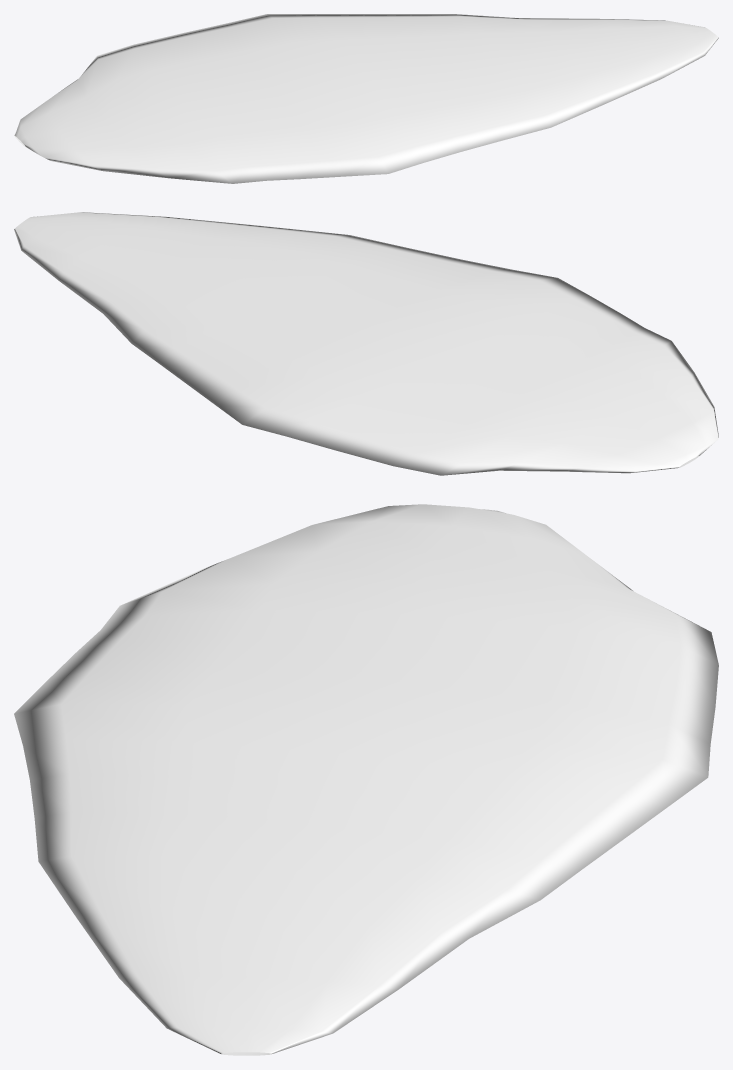
The model's file is SM_CooledLava_Var4.fbx.
3 views of the same model, one above another, from view 1: azimuth 30°, elevation 25°; view 2: azimuth 150°, elevation 25°; view 3: azimuth 270°, elevation 25° (orthographic). The views are drawn at different scales.
Parts seen in each view (by area): view 1: CooledLava_Var4; view 2: CooledLava_Var4; view 3: CooledLava_Var4.
Boxes of the visible parts, x1,y1,x2,y2 form: CooledLava_Var4: (14, 14, 718, 183); CooledLava_Var4: (14, 212, 718, 475); CooledLava_Var4: (14, 504, 718, 1055).
Size of the model in its own units: 1242 by 51.11 by 674.
